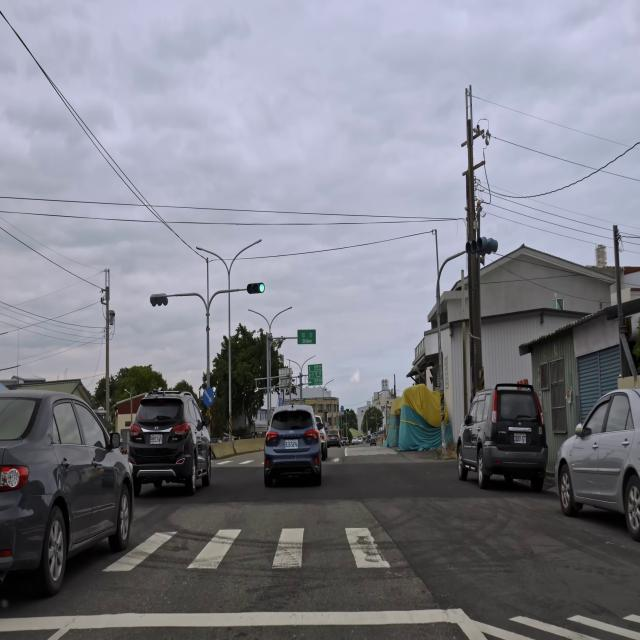green light: (247, 282, 266, 295)
